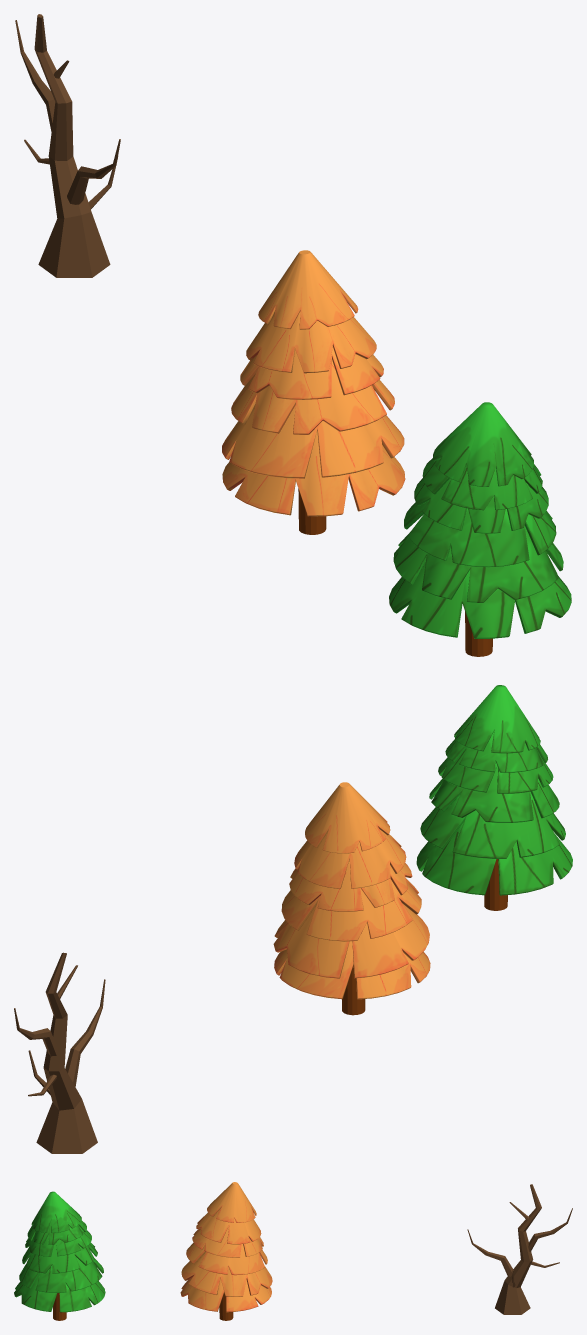
The model's file is Tree.fbx.
3 renders of one model, top to bottom at view 1: azimuth 30°, elevation 25°; view 2: azimuth 150°, elevation 25°; view 3: azimuth 270°, elevation 25°, orthographic. The views are drawn at different scales.
Visible parts, largest first — view 1: Cylinder.001, Cylinder.008, Cylinder; view 2: Cylinder.001, Cylinder.008, Cylinder; view 3: Cylinder.001, Cylinder.008, Cylinder.
Part boxes in pixels (left/top/right/bottom): Cylinder.001: left=222, top=250, right=405, bottom=534; Cylinder.008: left=389, top=402, right=571, bottom=656; Cylinder: left=15, top=14, right=120, bottom=277; Cylinder.001: left=273, top=782, right=430, bottom=1015; Cylinder.008: left=416, top=685, right=572, bottom=910; Cylinder: left=14, top=952, right=105, bottom=1153; Cylinder.001: left=180, top=1182, right=272, bottom=1320; Cylinder.008: left=14, top=1191, right=105, bottom=1320; Cylinder: left=467, top=1184, right=572, bottom=1314.
Size of the model in its own units: 3.45 by 5.46 by 19.55.
